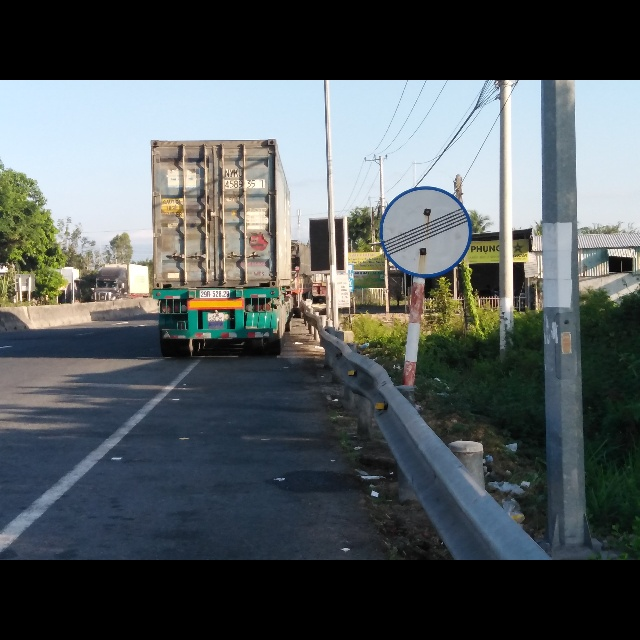Hết tất cả các lệnh cấm: (375, 183, 475, 279)
